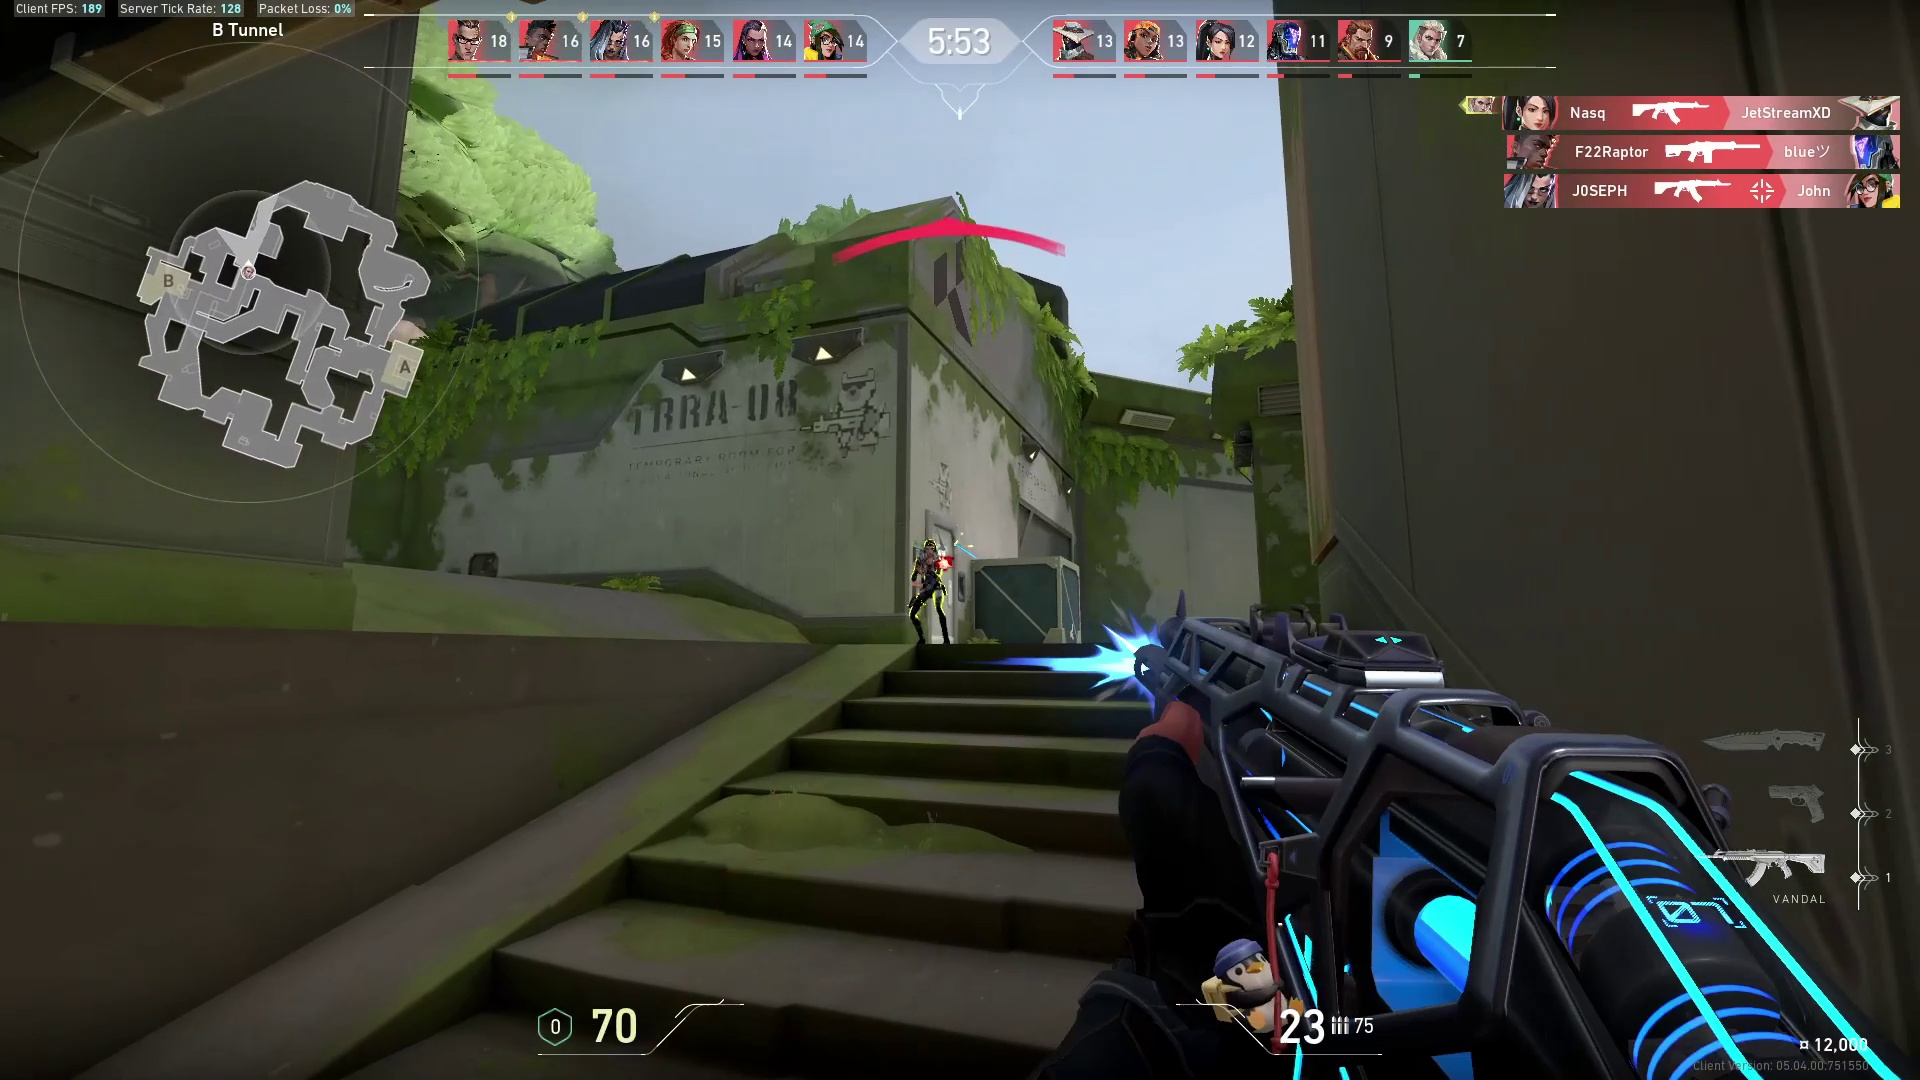enemy_body: (908, 559, 953, 649)
enemy_head: (919, 535, 942, 559)
